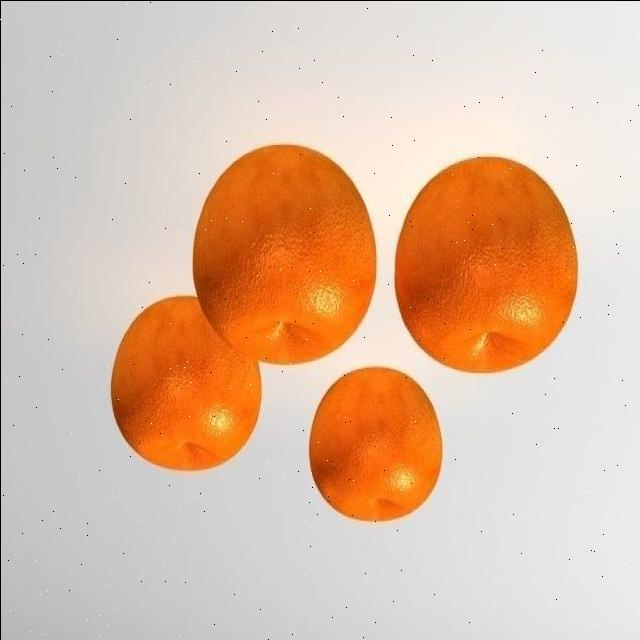Orange: (191, 143, 377, 366), (394, 156, 579, 374), (110, 295, 262, 473), (308, 367, 443, 524)
